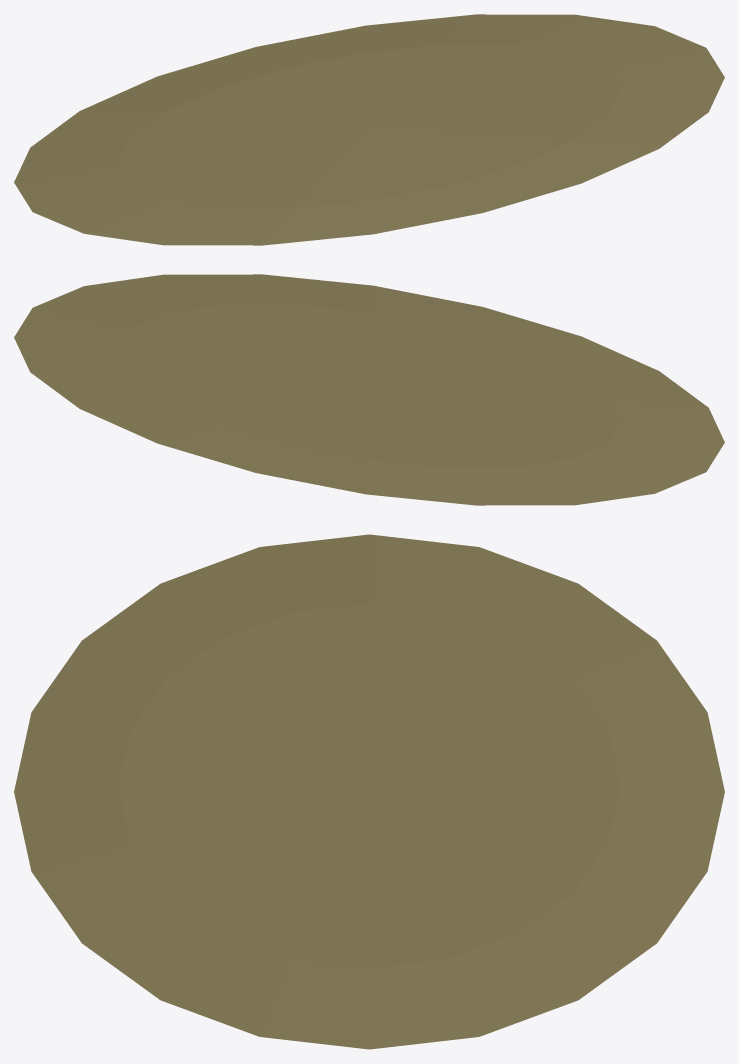
File: POL_GRASS_BROWN_01.fbx
The picture shows the model from 3 angles, top to bottom: view 1: azimuth 30°, elevation 25°; view 2: azimuth 150°, elevation 25°; view 3: azimuth 270°, elevation 25°; orthographic projection. The views are drawn at different scales.
Visible parts, largest first — view 1: POL_GRASS_BROWN_01; view 2: POL_GRASS_BROWN_01; view 3: POL_GRASS_BROWN_01.
Part boxes in pixels (left/top/right/bottom): POL_GRASS_BROWN_01: left=14, top=14, right=724, bottom=245; POL_GRASS_BROWN_01: left=14, top=274, right=724, bottom=505; POL_GRASS_BROWN_01: left=14, top=534, right=724, bottom=1049.
Size of the model in its own units: 240 by 3.6 by 140.
